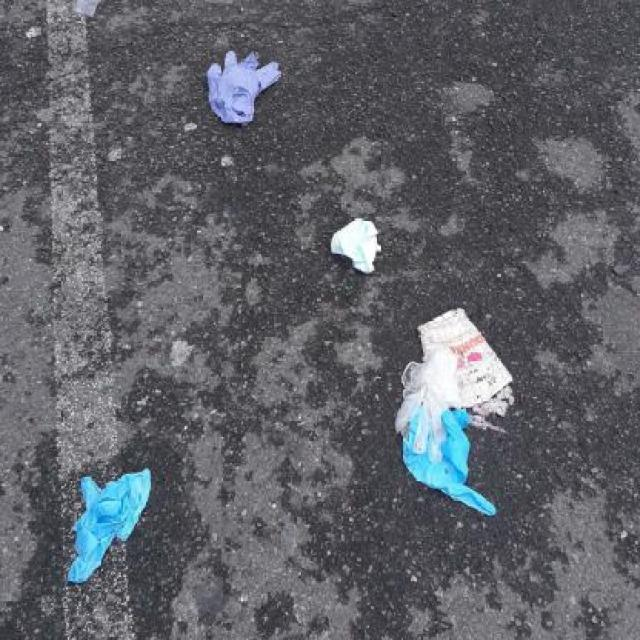glove_hand: (378, 345, 510, 533), (53, 442, 169, 598), (198, 35, 302, 148), (311, 196, 397, 322)
